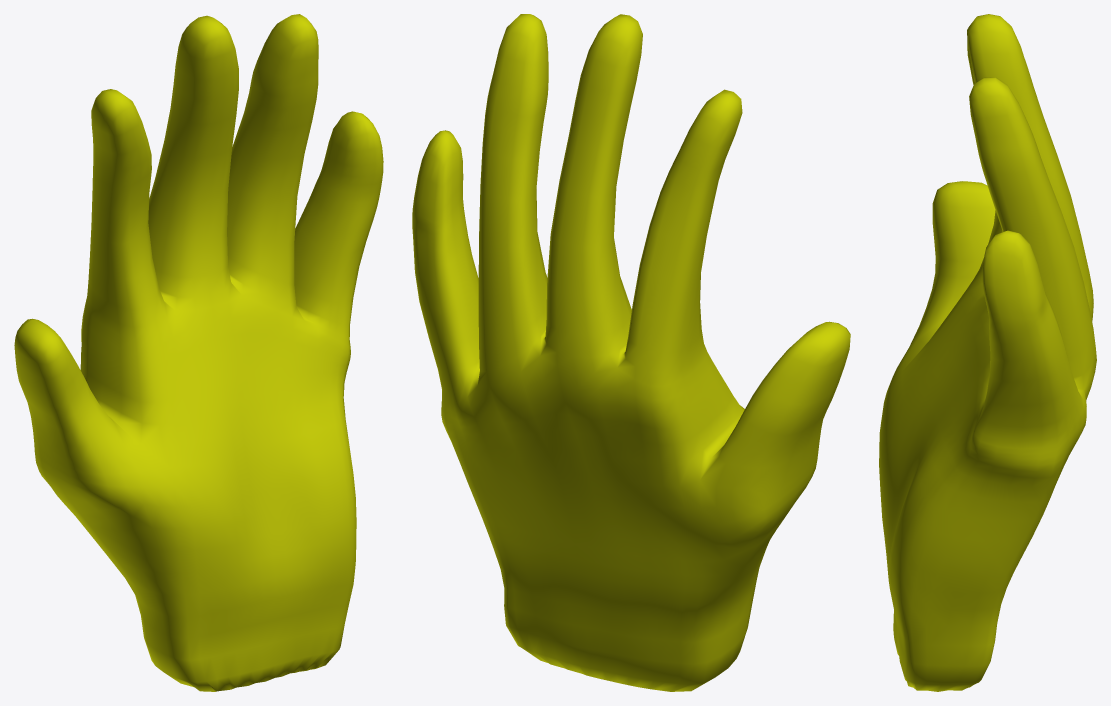
File: hand_yellow.obj
3 renders of one model, left to right at view 1: azimuth 30°, elevation 25°; view 2: azimuth 150°, elevation 25°; view 3: azimuth 270°, elevation 25°, orthographic. The views are drawn at different scales.
Parts seen in each view (by area): view 1: Cube; view 2: Cube; view 3: Cube.
Boxes of the visible parts, left/top/right/bottom form: Cube: left=14, top=14, right=383, bottom=691; Cube: left=412, top=14, right=850, bottom=691; Cube: left=879, top=14, right=1096, bottom=691.
Size of the model in its own units: 2.71 by 4.47 by 1.38.
